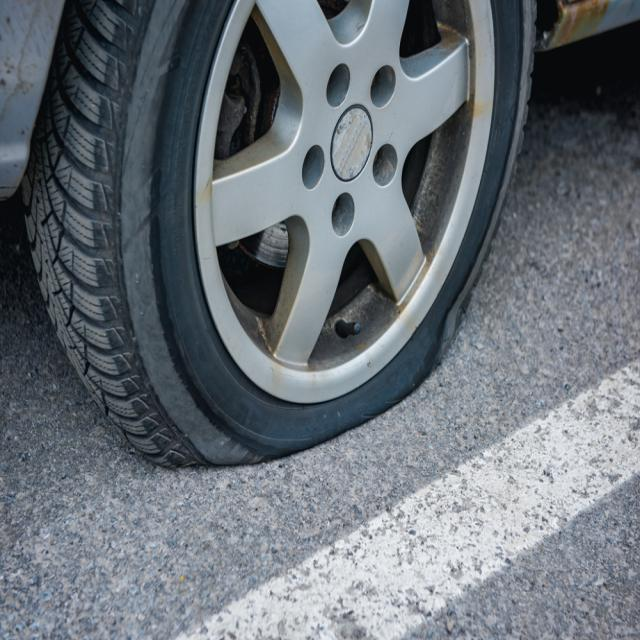tire flat: (21, 0, 535, 472)
